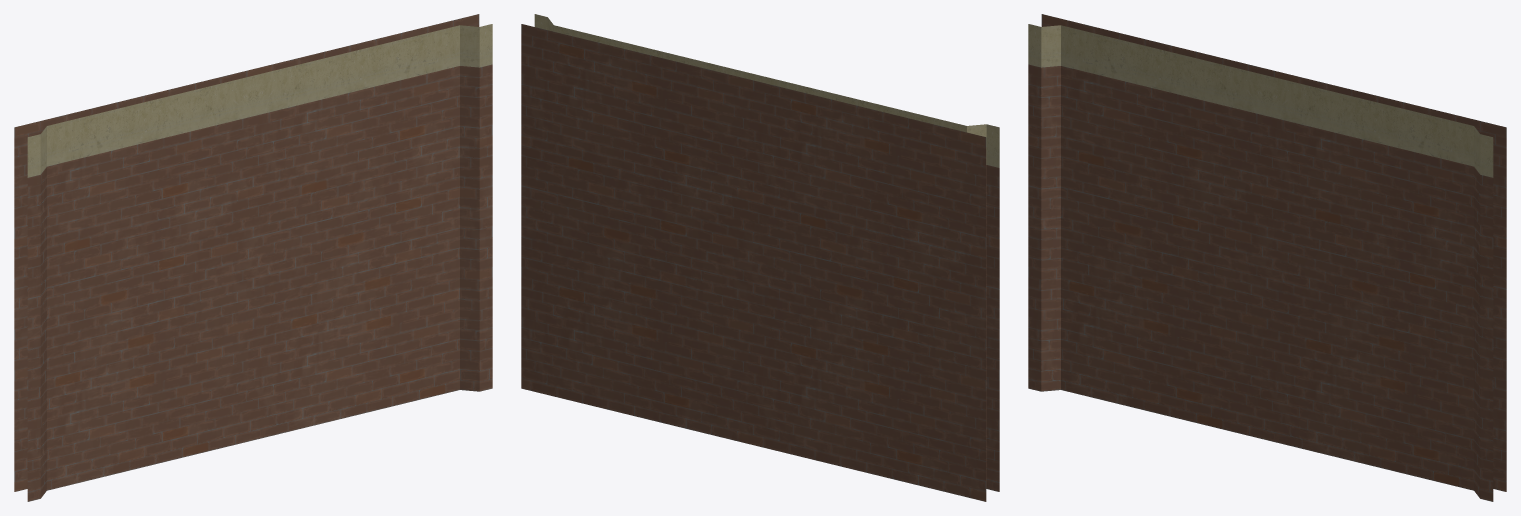
The model's file is Brick_Inset.gltf.
The picture shows the model from 3 angles, left to right: view 1: azimuth 30°, elevation 25°; view 2: azimuth 150°, elevation 25°; view 3: azimuth 330°, elevation 25°; orthographic projection.
Parts seen in each view (by area): view 1: Brick_Inset; view 2: Brick_Inset; view 3: Brick_Inset.
Part boxes in pixels (box(x1,y1,x2,y2)): Brick_Inset: box(14, 14, 492, 501); Brick_Inset: box(521, 14, 999, 501); Brick_Inset: box(1028, 14, 1506, 501).
Bounding box in the file's own units: 4 × 3 × 0.2.
3 materials, 3 textured.
